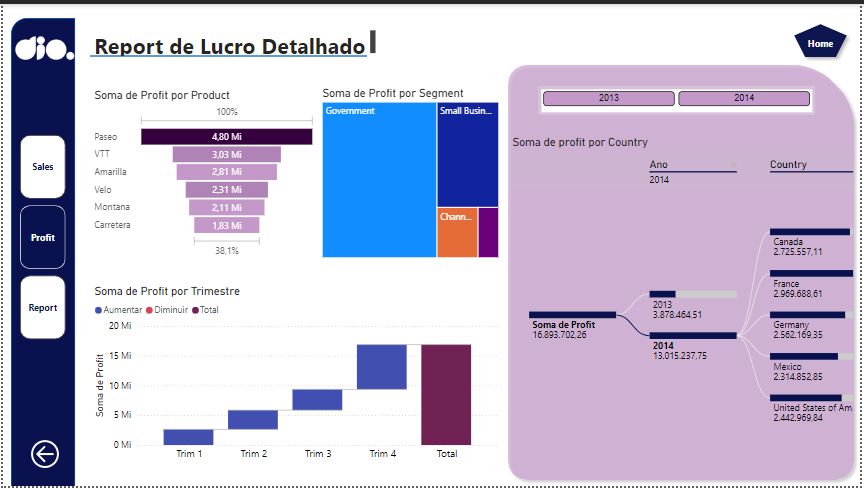

Layout of this report page (visuals, bound fields, positions):
{"tool":"powerbi","page":{"name":"Profit","canvas":[1280,720],"ordinal":1},"visuals":[{"type":"shape","box":[12,20.9,96,700],"z":0},{"type":"shape","box":[130.5,57.1,413.8,41.8],"z":0,"group":"g1"},{"type":"textbox","box":[132,34.4,430.2,48],"z":1000,"group":"g1"},{"type":"actionButton","title":"Home Page","box":[1172.6,20.9,97.1,67.2],"z":1000},{"type":"image","box":[13.4,34.4,98,63],"z":2000},{"type":"shape","box":[745.4,82.2,534.8,637.8],"z":3000},{"type":"decompositionTreeVisual","title":"Soma de profit por Country","fields":{"Analyze":["Sum(financials.Profit)"],"ExplainBy":["financials.Date.Variation.Hierarquia de datas.Ano","financials.Country"]},"box":[755.9,195.7,519,497.4],"z":4000},{"type":"waterfallChart","fields":{"Category":["financials.Date.Variation.Hierarquia de datas.Trimestre"],"Y":["Sum(financials.Profit)"]},"box":[131.5,418.3,613.9,274.9],"z":5000},{"type":"ChicletSlicer1448559807354","fields":{"Category":["financials.Date.Variation.Hierarquia de datas.Ano"]},"box":[799.2,122.5,413.8,43.3],"z":6000},{"type":"treemap","fields":{"Values":["Sum(financials.Profit)"],"Group":["financials.Segment"]},"box":[472,122.5,273.4,261.4],"z":7000},{"type":"group","id":"g1","title":"Sales report","box":[130.5,34.4,431.7,64.5],"z":8000},{"type":"actionButton","box":[35.9,624.4,53.8,95.6],"z":9000},{"type":"pageNavigator","box":[25.4,195.7,68.7,306.2],"z":10000},{"type":"funnel","fields":{"Category":["financials.Product"],"Y":["Sum(financials.Profit)"]},"box":[131.5,125.5,340.6,258.4],"z":11000}]}

Visuals, with their boxes on the page's 1280x720 design canvas (x1, y1, x2, y2). These are canvas units, not pixel positions in the 864x489 screenshot, which may show the page scaled, cropped or inside an application window:
shape: detection(12, 21, 108, 721)
shape: detection(130, 57, 544, 99)
textbox: detection(132, 34, 562, 82)
"Home Page" actionButton: detection(1173, 21, 1270, 88)
image: detection(13, 34, 111, 97)
shape: detection(745, 82, 1280, 720)
"Soma de profit por Country" decompositionTreeVisual: detection(756, 196, 1275, 693)
waterfallChart - financials.Date.Variation.Hierarquia de datas.Trimestre x Sum(financials.Profit): detection(132, 418, 745, 693)
ChicletSlicer1448559807354 - financials.Date.Variation.Hierarquia de datas.Ano: detection(799, 122, 1213, 166)
treemap - Sum(financials.Profit) x financials.Segment: detection(472, 122, 745, 384)
"Sales report" group: detection(130, 34, 562, 99)
actionButton: detection(36, 624, 90, 720)
pageNavigator: detection(25, 196, 94, 502)
funnel - financials.Product x Sum(financials.Profit): detection(132, 126, 472, 384)
